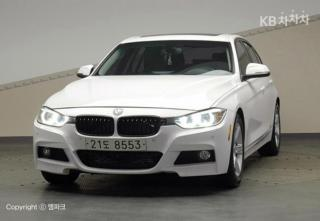1: (97, 139, 102, 149)
2: (90, 139, 97, 149)
3: (134, 140, 142, 150)
5: (121, 140, 128, 150), (128, 140, 134, 149)
8: (114, 140, 121, 150)
도: (102, 140, 111, 149)
